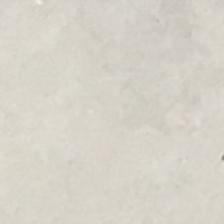Non_Crack: (33, 26, 220, 208)
